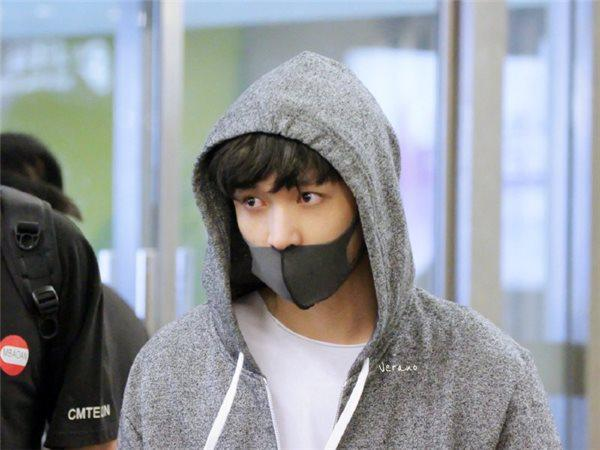WRONG: (229, 163, 350, 308)
